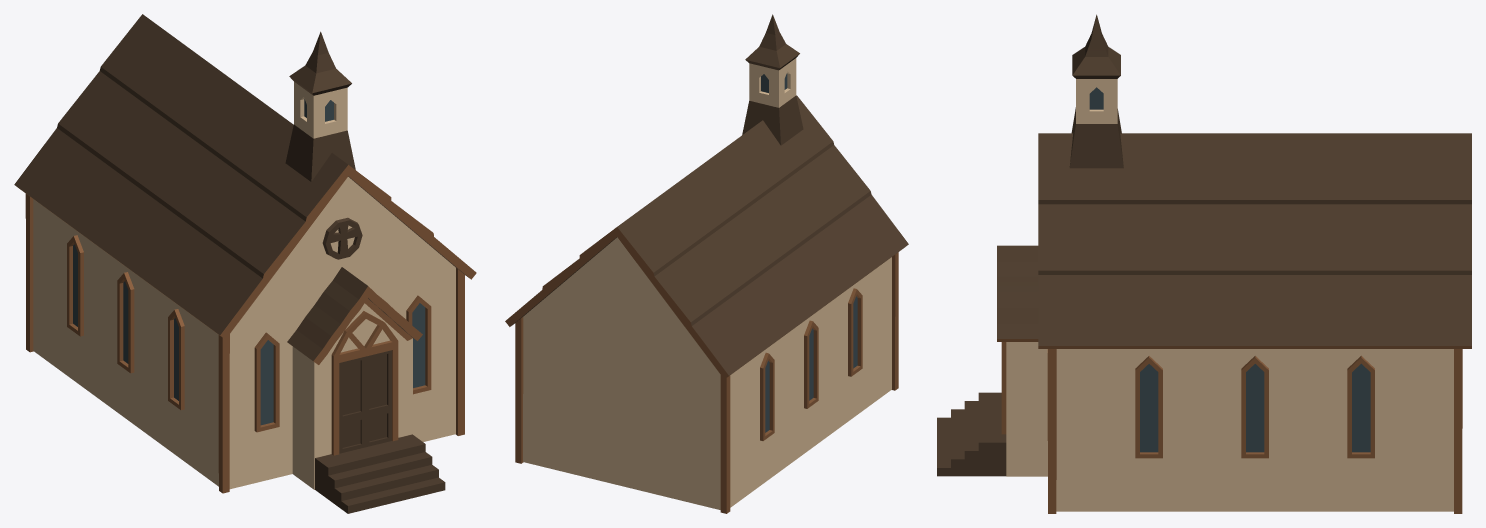
File: western_church-western.fbx
3 views of the same model, side by side, from view 1: azimuth 30°, elevation 25°; view 2: azimuth 150°, elevation 25°; view 3: azimuth 270°, elevation 25° (orthographic). The views are drawn at different scales.
Parts seen in each view (by area): view 1: western_church_western; view 2: western_church_western; view 3: western_church_western.
Boxes of the visible parts, left/top/right/bottom form: western_church_western: left=14, top=14, right=476, bottom=513; western_church_western: left=505, top=14, right=908, bottom=513; western_church_western: left=937, top=14, right=1471, bottom=513.
Size of the model in its own units: 117 by 181 by 200.
